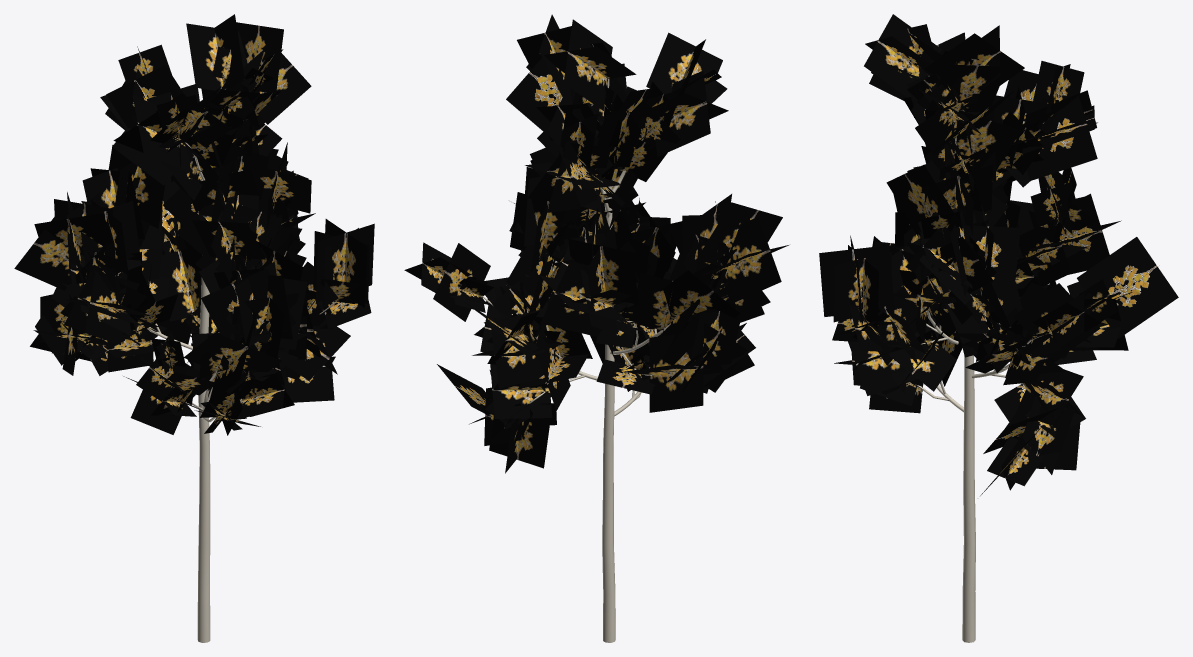
The model's file is aspen-a.glb.
The picture shows the model from 3 angles, left to right: view 1: azimuth 30°, elevation 25°; view 2: azimuth 150°, elevation 25°; view 3: azimuth 270°, elevation 25°; orthographic projection.
Bounding box in the file's own units: 3.65 × 6.46 × 3.38.
2 materials, 1 textured.
